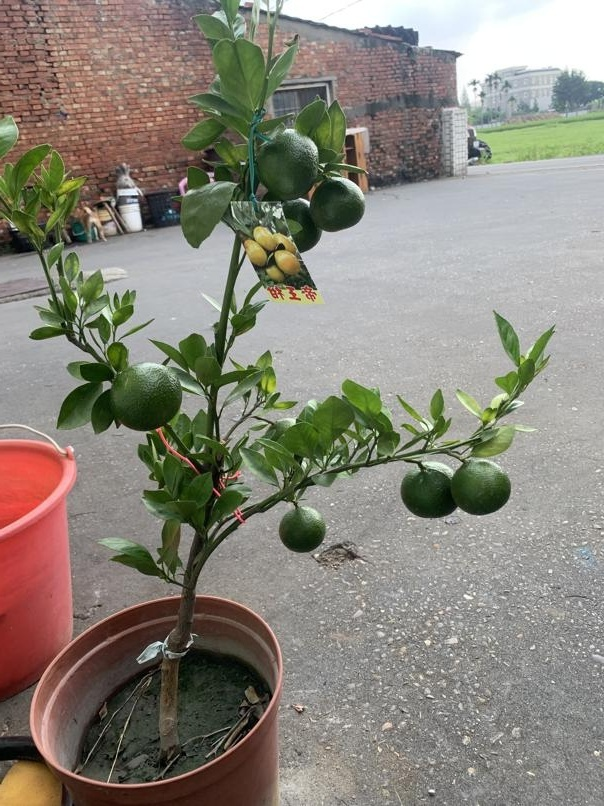Tangerine: (251, 126, 322, 198), (110, 364, 182, 432), (448, 455, 512, 517), (399, 460, 456, 523), (308, 174, 365, 233), (275, 501, 326, 555)
